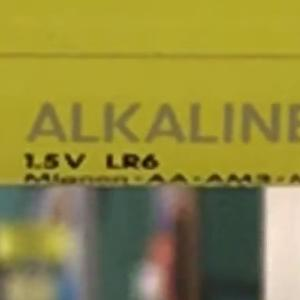keyword: (20, 95, 141, 150)
